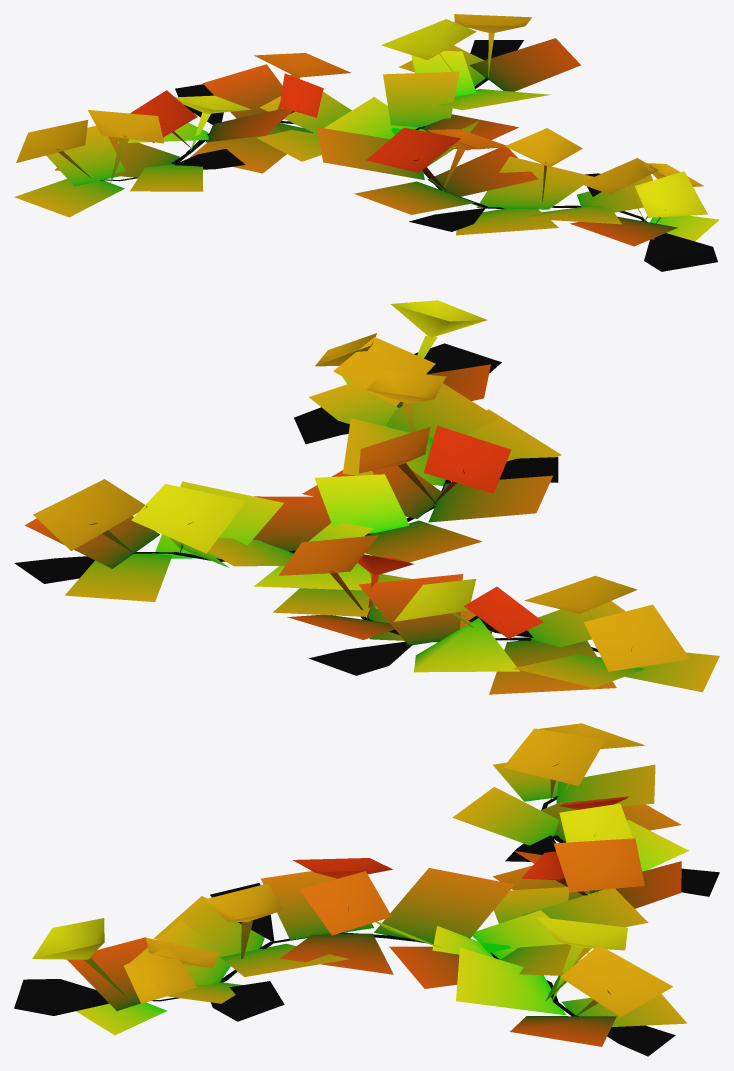
File: Var1_LOD2.fbx
The picture shows the model from 3 angles, top to bottom: view 1: azimuth 30°, elevation 25°; view 2: azimuth 150°, elevation 25°; view 3: azimuth 270°, elevation 25°; orthographic projection. The views are drawn at different scales.
Visible parts, largest first — view 1: Var1_LOD2; view 2: Var1_LOD2; view 3: Var1_LOD2.
Boxes of the visible parts, box(x1,y1,x2,y2) form: Var1_LOD2: box(14, 14, 719, 271); Var1_LOD2: box(14, 300, 719, 694); Var1_LOD2: box(14, 723, 719, 1056).
Size of the model in its own units: 55.25 by 6.39 by 53.24.
